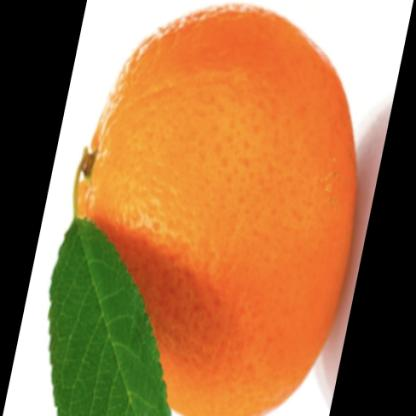fresh: (80, 7, 359, 416)
